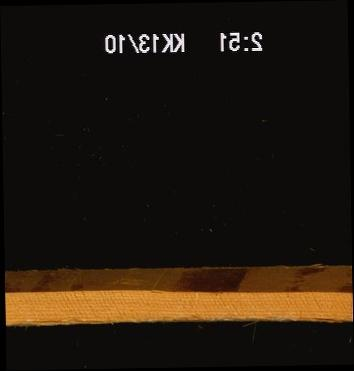wave: (4, 266, 351, 294)
